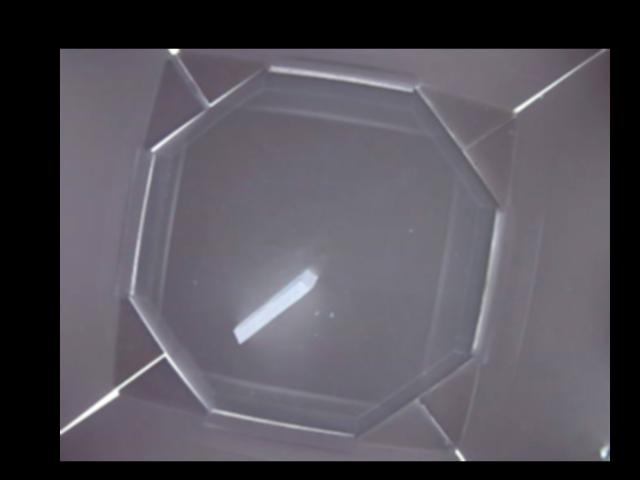China: (238, 272, 316, 341)
